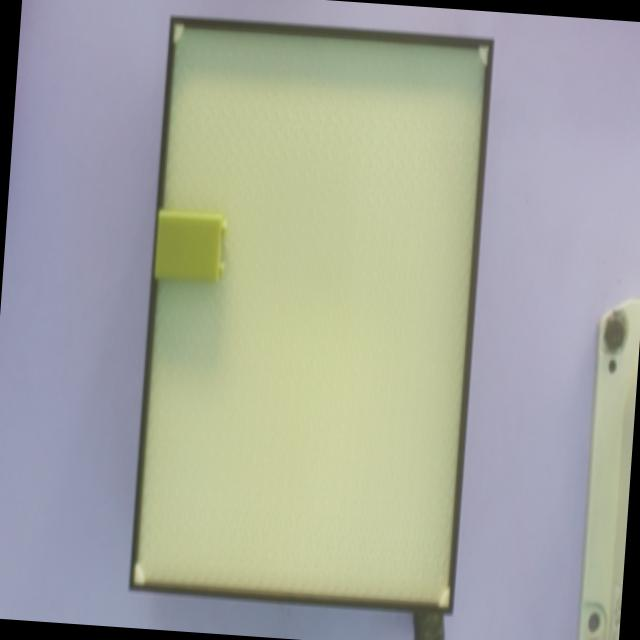Bateria: (154, 210, 222, 282)
Mesa: (129, 16, 494, 615)
Pestana: (218, 262, 224, 276), (221, 220, 226, 236)
